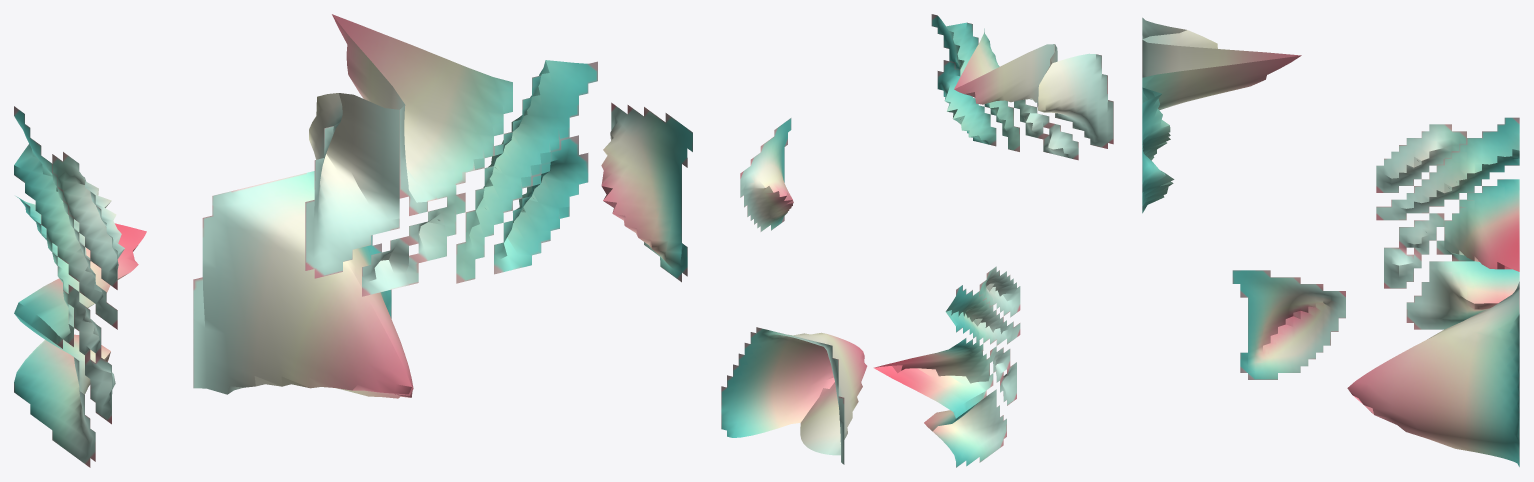
Rendered from Wire_selected_mountains.fbx.
3 views of the same model, side by side, from view 1: azimuth 30°, elevation 25°; view 2: azimuth 150°, elevation 25°; view 3: azimuth 270°, elevation 25° (orthographic). The views are drawn at different scales.
Parts seen in each view (by area): view 1: Plane_2, Plane_1_11, Plane_2_2, Plane_3_8; view 2: Plane_2, Plane_1_11, Plane_2_2, Plane_3_8; view 3: Plane_2_2, Plane_1_11, Plane_2, Plane_3_8.
Boxes of the visible parts, x1,y1,x2,y2 form: Plane_2: (305,14,597,296); Plane_1_11: (193,171,413,398); Plane_2_2: (14,106,146,467); Plane_3_8: (601,102,692,282); Plane_2: (931,14,1113,160); Plane_1_11: (721,327,867,464); Plane_2_2: (874,266,1020,467); Plane_3_8: (740,118,793,231); Plane_2_2: (1376,117,1519,329); Plane_1_11: (1347,281,1519,466); Plane_2: (1142,17,1301,213); Plane_3_8: (1232,270,1345,379).
Size of the model in its own units: 100 by 100 by 100.
1 material, 1 textured.
